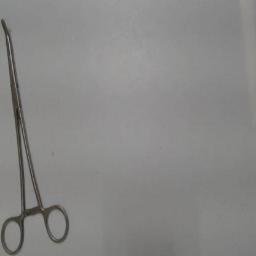Lahey Forceps: (1, 13, 73, 255)
